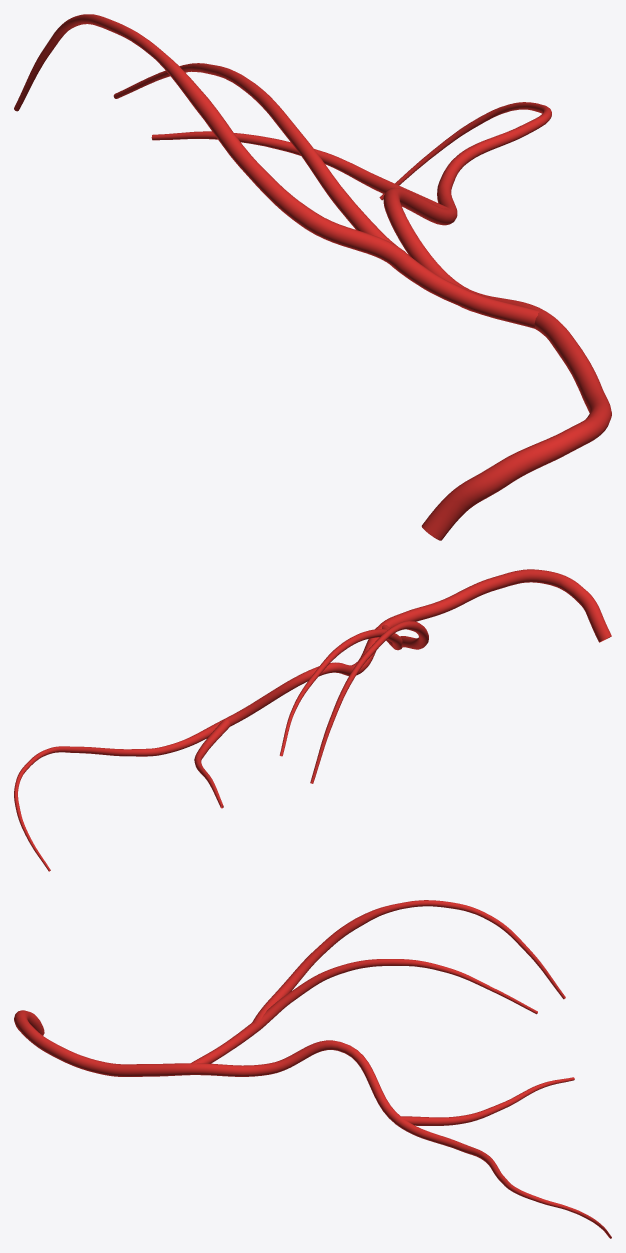
Rendered from circulatorio-superior-cerebellar-artery-l.glb.
3 views of the same model, one above another, from view 1: azimuth 30°, elevation 25°; view 2: azimuth 150°, elevation 25°; view 3: azimuth 270°, elevation 25° (orthographic). The views are drawn at different scales.
Parts seen in each view (by area): view 1: Superior cerebellar artery.l; view 2: Superior cerebellar artery.l; view 3: Superior cerebellar artery.l.
Part boxes in pixels (box(x1,y1,x2,y2)): Superior cerebellar artery.l: box(14, 14, 611, 540); Superior cerebellar artery.l: box(14, 569, 611, 871); Superior cerebellar artery.l: box(14, 900, 611, 1238).
Bounding box in the file's own units: 0.0463 × 0.0308 × 0.0748.
